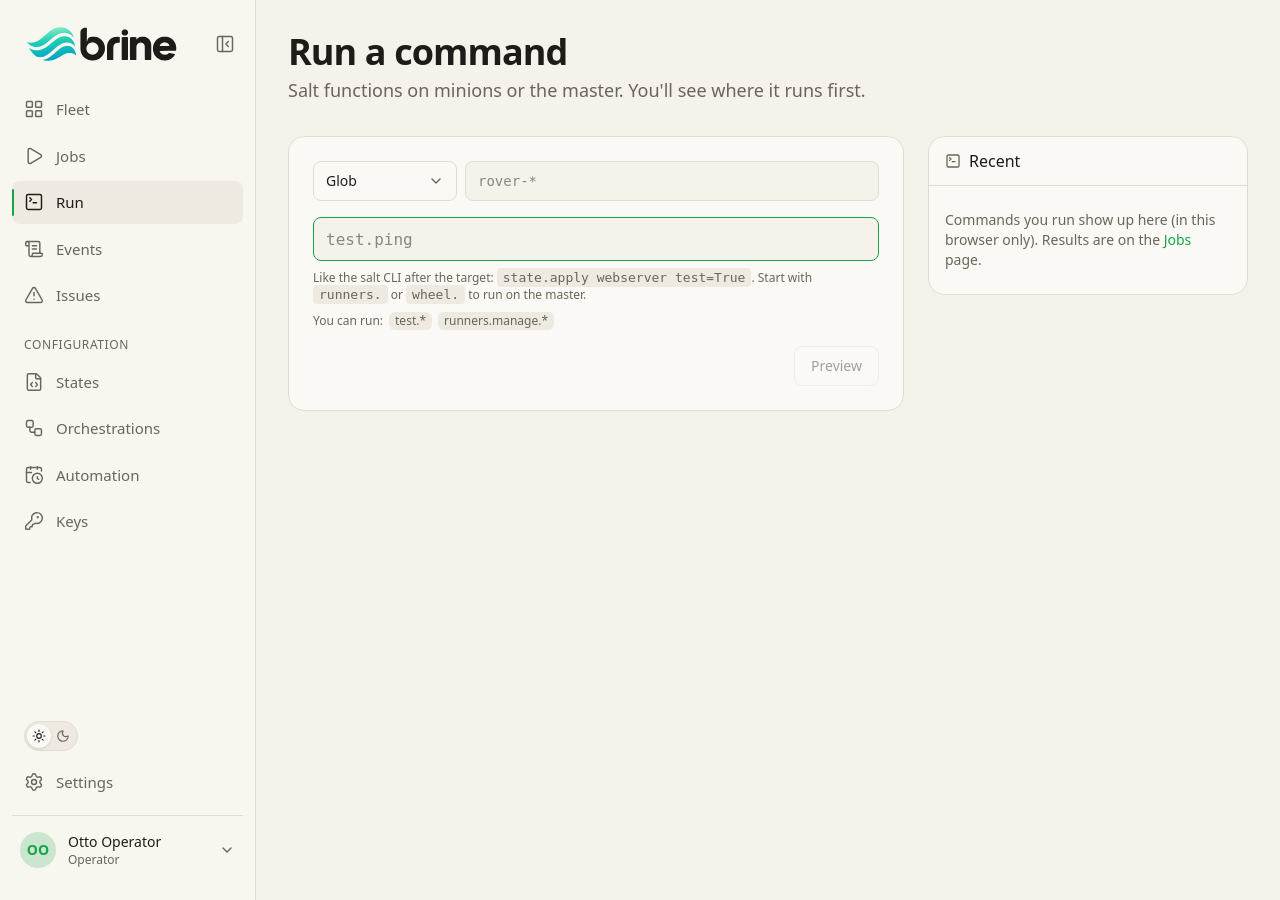
Test: RunPage › picks the target type with the mouse, and closes on a click elsewhere
Click the button named "Target type Glob".
click(385, 181)  # box [313, 161, 457, 201]
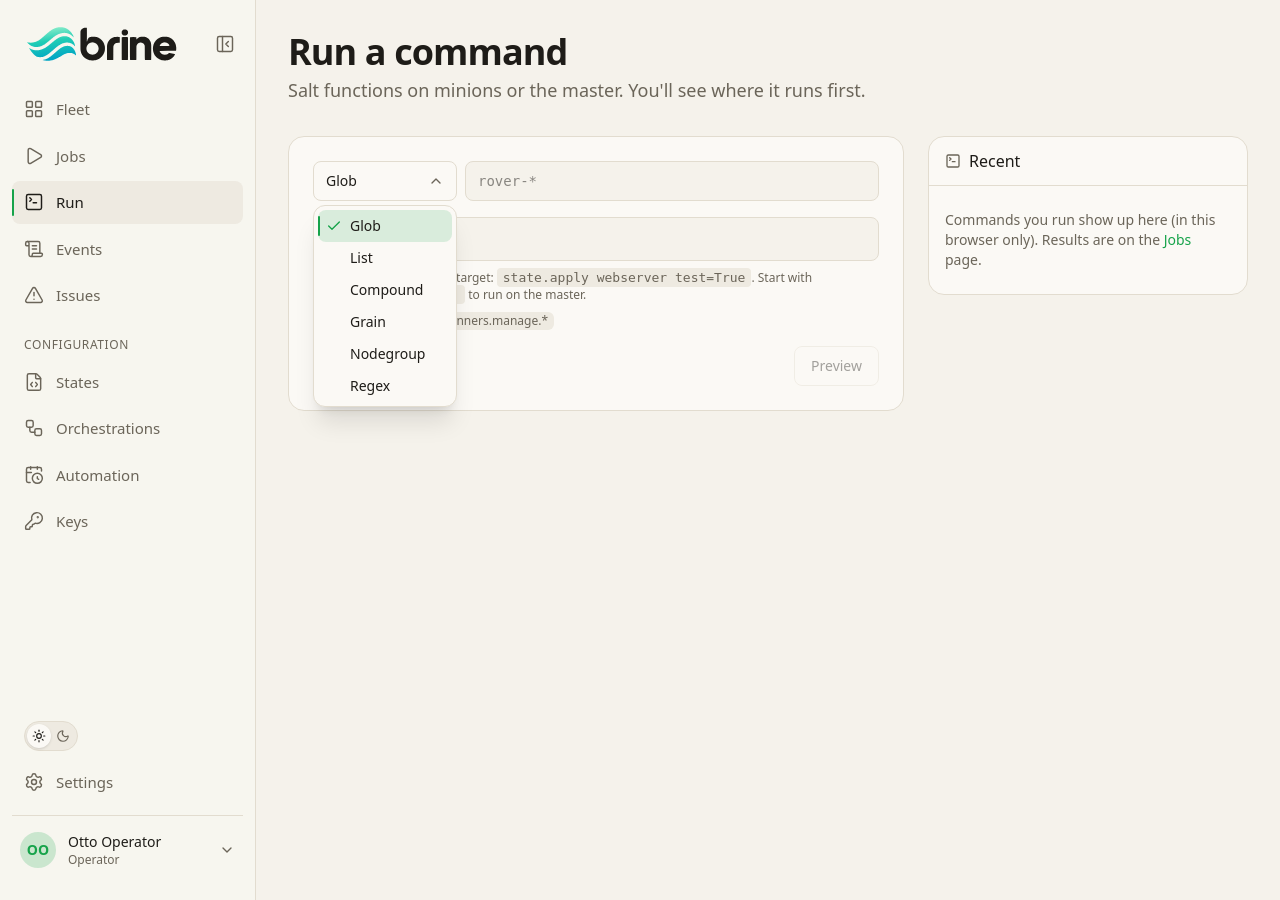
Click the option "List".
click(361, 258)  # box [350, 248, 373, 267]
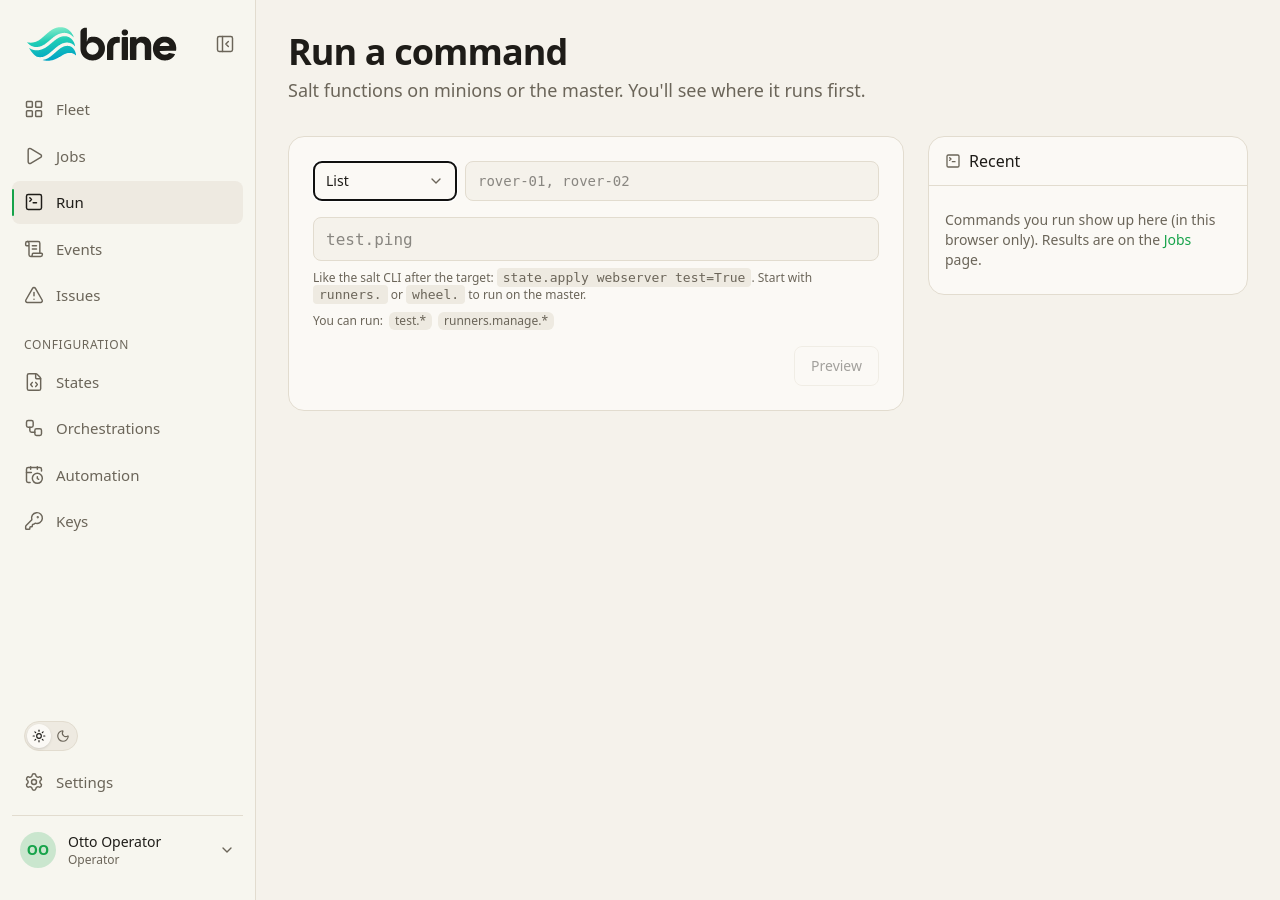
Expected: the list is gone
Click the button named "Target type Glob".
click(385, 181)  # box [313, 161, 457, 201]
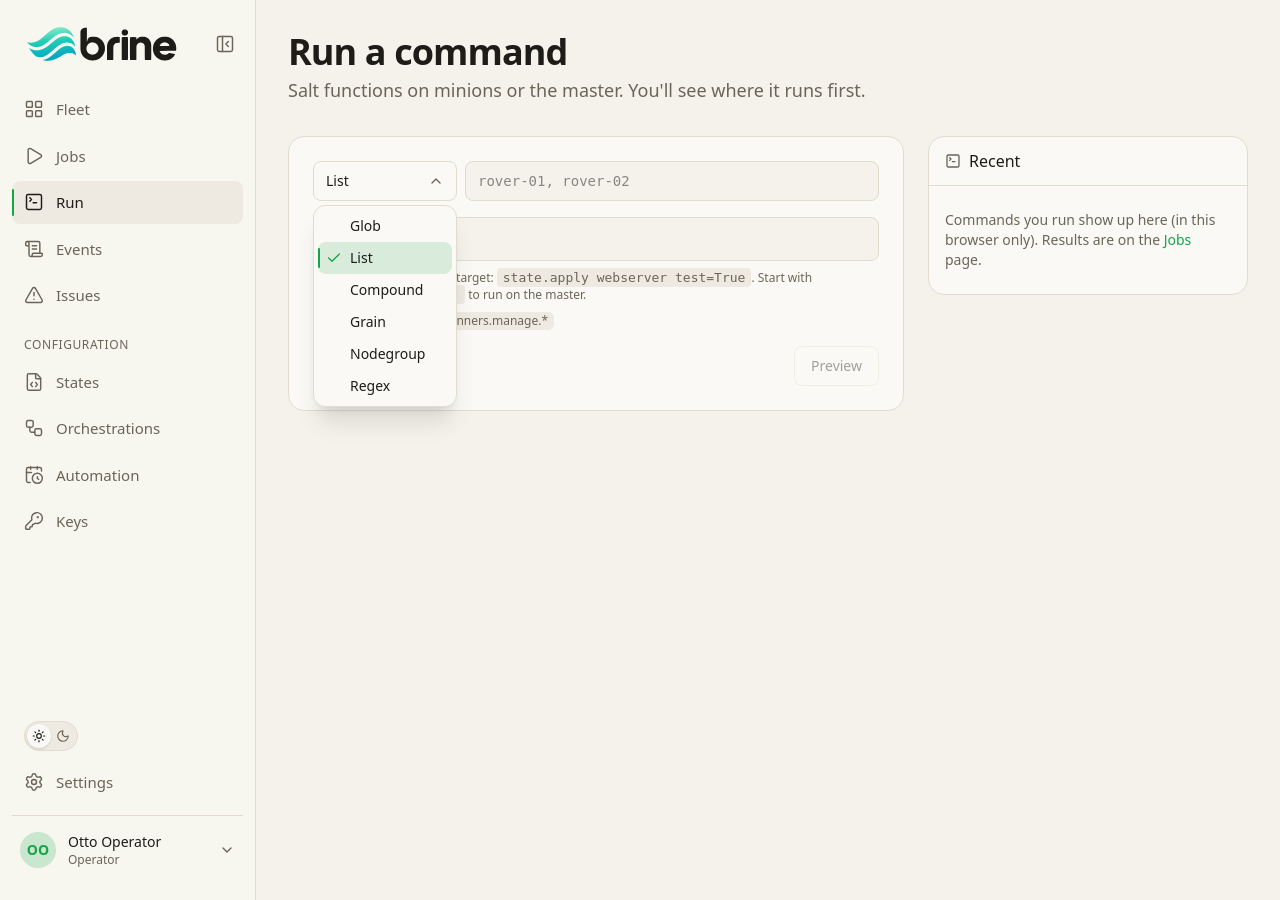
Expected: the list is shown, [314, 206, 456, 406]
Click the button named "Target type Glob".
click(385, 181)  # box [313, 161, 457, 201]
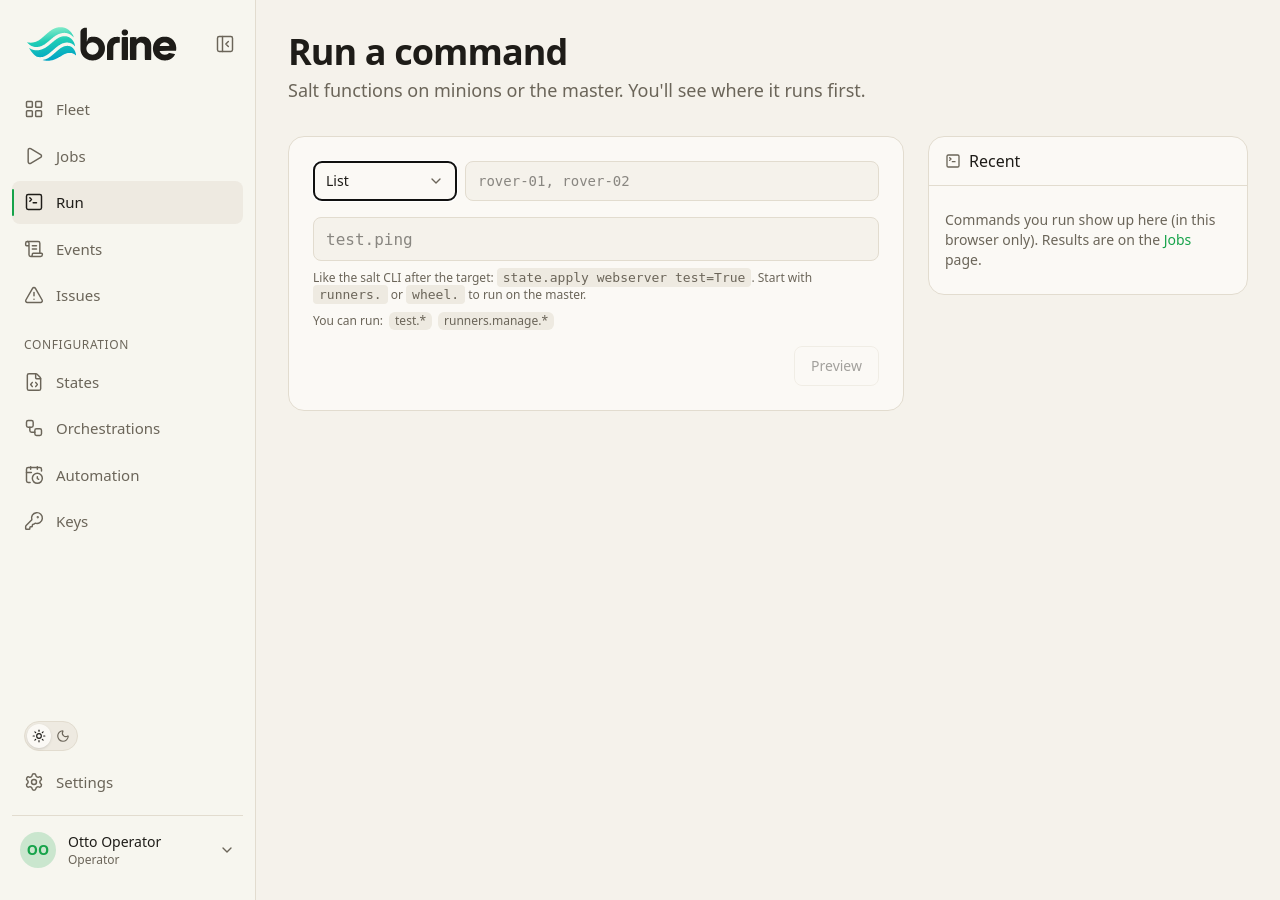
Expected: the list is gone
Click the button named "Target type Glob".
click(385, 181)  # box [313, 161, 457, 201]
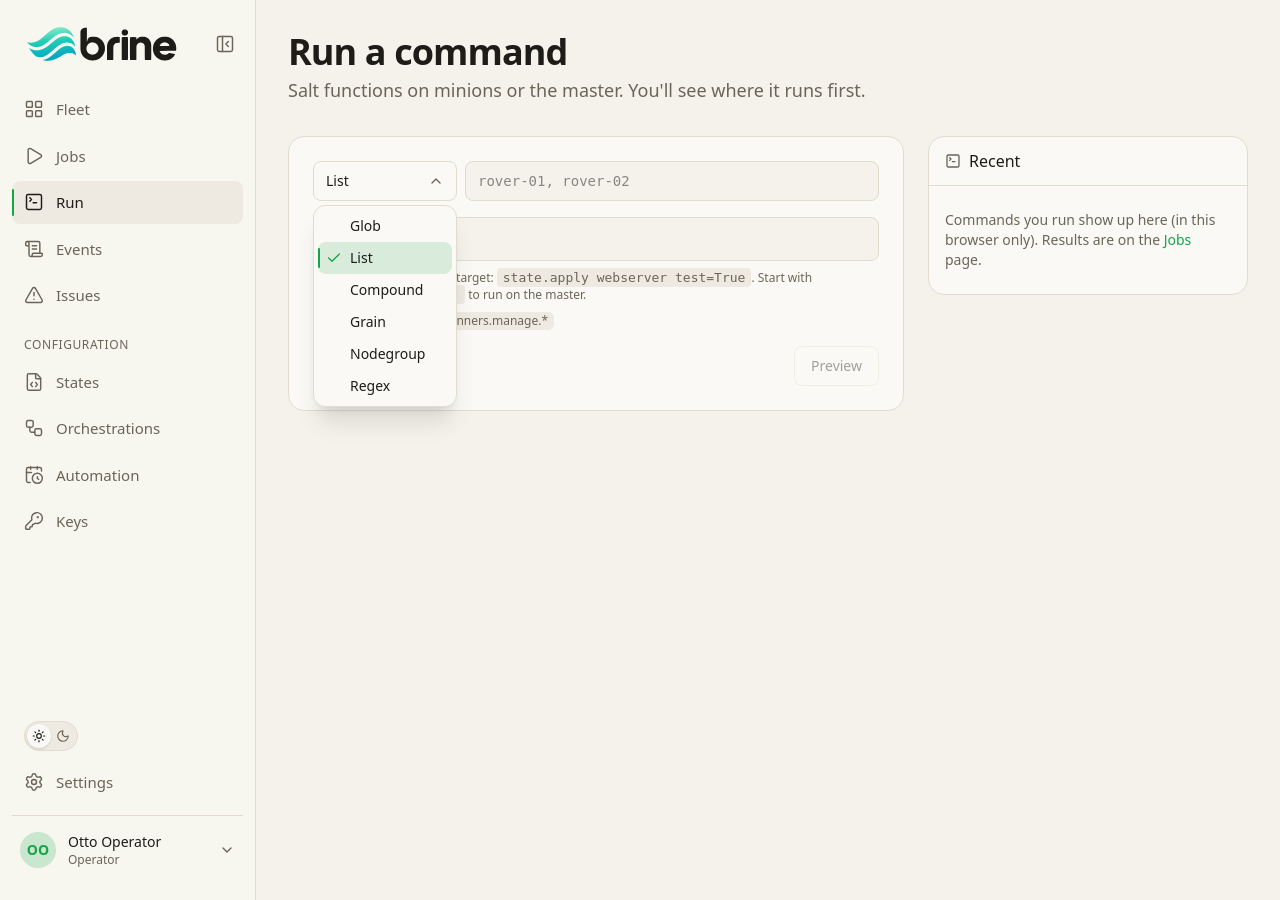
Click the heading "Run a command".
click(428, 52)  # box [288, 27, 568, 76]
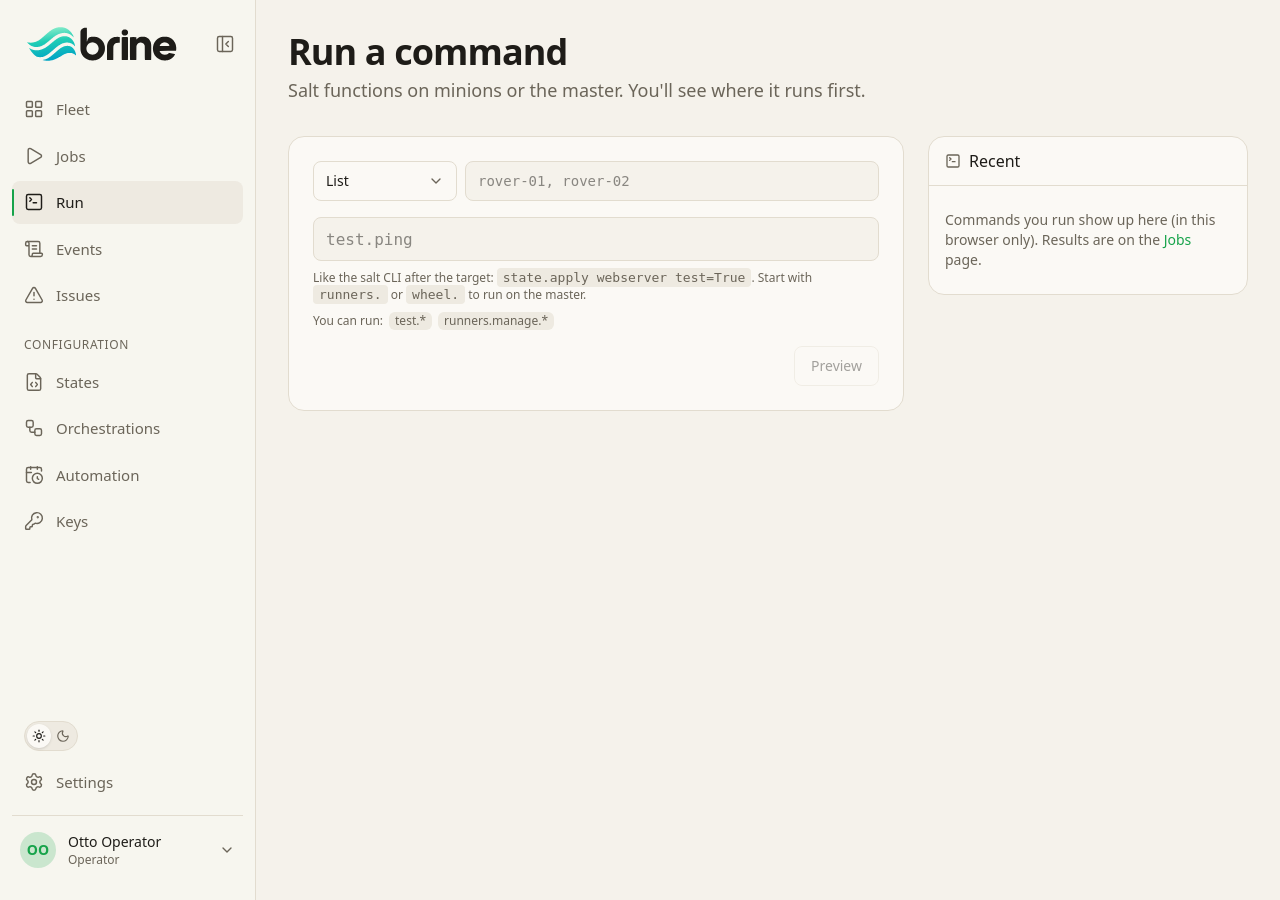
Expected: the list is gone
Expected: the button named "Target type Glob" is collapsed, [313, 161, 457, 201]
